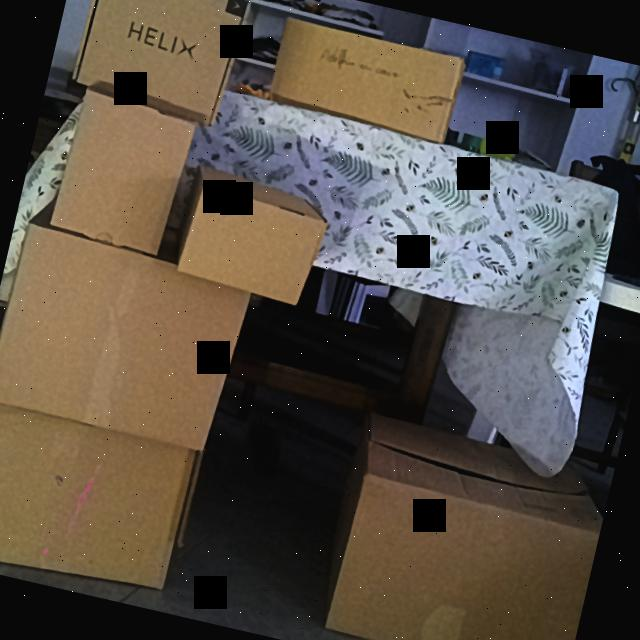box: (0, 222, 249, 454), (325, 470, 601, 640), (0, 391, 196, 595), (266, 18, 462, 140), (56, 90, 192, 254), (73, 0, 245, 117), (180, 185, 322, 304)
